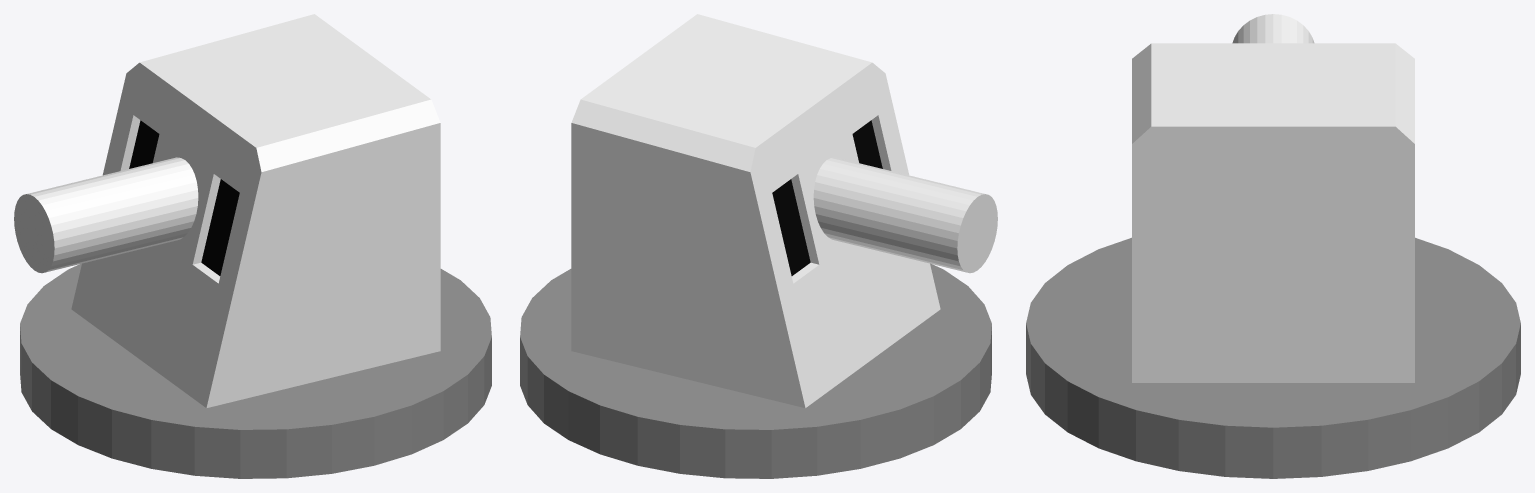
File: Cannon.fbx
3 views of the same model, side by side, from view 1: azimuth 30°, elevation 25°; view 2: azimuth 150°, elevation 25°; view 3: azimuth 270°, elevation 25° (orthographic). The views are drawn at different scales.
Parts seen in each view (by area): view 1: Turret, Base, Barrel; view 2: Turret, Base, Barrel; view 3: Turret, Base, Barrel.
Part boxes in pixels (<box>): Turret: <box>71,14,440,408</box>; Base: <box>20,263,491,478</box>; Barrel: <box>14,157,198,273</box>; Turret: <box>571,14,940,408</box>; Base: <box>520,263,991,478</box>; Barrel: <box>813,157,997,273</box>; Turret: <box>1132,43,1414,382</box>; Base: <box>1026,237,1520,478</box>; Barrel: <box>1232,14,1314,43</box>.
Size of the model in its own units: 350 by 364 by 240.
